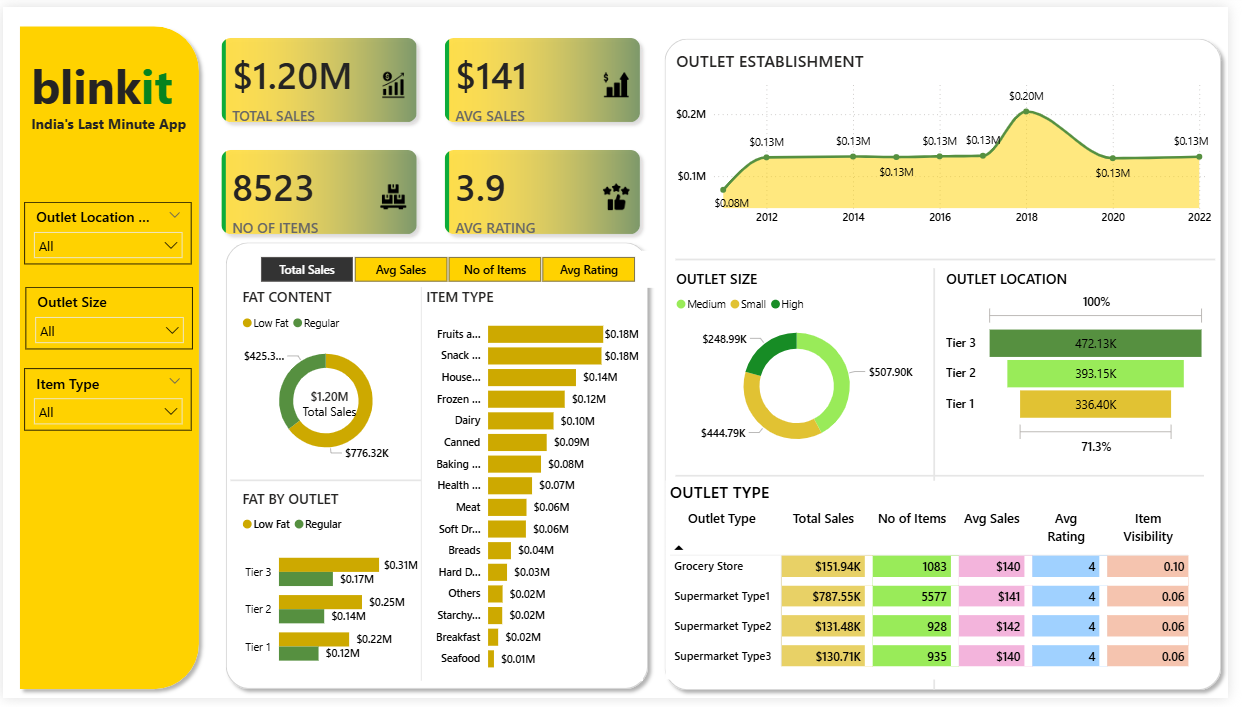

The dashboard page shown, as its layout file describes it:
{"tool":"powerbi","page":{"name":"Page 1","canvas":[1400,790],"ordinal":0},"visuals":[{"type":"shape","box":[10,12.9,222.9,775.7],"z":0},{"type":"textbox","box":[27.1,48.6,188.6,117.1],"z":1000},{"type":"textbox","box":[27.1,117.1,221.4,31.4],"z":2000},{"type":"cardVisual","fields":{"Data":["BlinkIT Grocery Data.Total Sales","BlinkIT Grocery Data.Avg Sales","BlinkIT Grocery Data.No of Items","BlinkIT Grocery Data.Avg Rating"]},"box":[233,18.5,513.6,259.5],"z":3000},{"type":"shape","box":[246.2,259.5,500.4,528.2],"z":4000},{"type":"donutChart","title":"FAT CONTENT","fields":{"Y":["BlinkIT Grocery Data.Total Sales"],"Category":["BlinkIT Grocery Data.Item Fat Content"]},"box":[268.7,320.3,201.2,210.5],"z":5000},{"type":"slicer","fields":{"Values":["Metrics.Metrics"]},"box":[268.7,278,477.9,42.4],"z":6000},{"type":"cardVisual","fields":{"Data":["BlinkIT Grocery Data.Total Sales"]},"box":[319,418.3,109.9,59.6],"z":7000},{"type":"clusteredBarChart","title":"FAT BY OUTLET","fields":{"Y":["BlinkIT Grocery Data.Total Sales"],"Category":["BlinkIT Grocery Data.Outlet Location Type"],"Series":["BlinkIT Grocery Data.Item Fat Content"]},"box":[268.7,549.3,210.5,221.1],"z":8000},{"type":"shape","box":[259.5,525.5,219.7,30.4],"z":9000},{"type":"shape","box":[460.7,320.3,37.1,450.1],"z":10000},{"type":"barChart","title":"ITEM TYPE","fields":{"Y":["BlinkIT Grocery Data.Total Sales"],"Category":["BlinkIT Grocery Data.Item Type"]},"box":[479.2,320.3,252.8,450.1],"z":11000},{"type":"shape","box":[746.6,27.8,653.9,762.5],"z":12000},{"type":"lineChart","title":"OUTLET ESTABLISHMENT","fields":{"Y":["BlinkIT Grocery Data.Total Sales"],"Category":["BlinkIT Grocery Data.Outlet Establishment Year"]},"box":[763.8,49,622.2,210.5],"z":13000},{"type":"shape","box":[768.6,278.6,617.1,20],"z":14000},{"type":"donutChart","title":"OUTLET SIZE","fields":{"Y":["BlinkIT Grocery Data.Total Sales"],"Category":["BlinkIT Grocery Data.Outlet Size"]},"box":[763.8,299.2,285.9,219.7],"z":15000},{"type":"shape","box":[1053.7,299.2,19.9,481.8],"z":16000},{"type":"funnel","title":"OUTLET LOCATION","fields":{"Y":["Sum(BlinkIT Grocery Data.Sales)"],"Category":["BlinkIT Grocery Data.Outlet Location Type"]},"box":[1073.5,299.2,307.1,219.7],"z":17000},{"type":"pivotTable","title":"OUTLET TYPE","fields":{"Rows":["BlinkIT Grocery Data.Outlet Type"],"Values":["BlinkIT Grocery Data.Total Sales","BlinkIT Grocery Data.No of Items","BlinkIT Grocery Data.Avg Sales","BlinkIT Grocery Data.Avg Rating","Avg(BlinkIT Grocery Data.Item Visibility)"]},"box":[757.1,541.4,615.7,227.1],"z":18000},{"type":"shape","box":[768.6,525.7,604.3,20],"z":19000},{"type":"slicer","fields":{"Values":["BlinkIT Grocery Data.Outlet Location Type"]},"box":[24.3,222.9,191.4,71.4],"z":20000},{"type":"slicer","fields":{"Values":["BlinkIT Grocery Data.Outlet Size"]},"box":[25.7,320,191.4,71.4],"z":20001},{"type":"slicer","fields":{"Values":["BlinkIT Grocery Data.Item Type"]},"box":[24.3,412.9,191.4,71.4],"z":20002}]}

Visuals, with their boxes in screenshot pixels (x1, y1, x2, y2), scaled from the page's 1400x790 canvas onto the 1242x707 screenshot:
shape: <region>9, 12, 207, 706</region>
textbox: <region>24, 43, 191, 148</region>
textbox: <region>24, 105, 220, 133</region>
cardVisual - BlinkIT Grocery Data.Total Sales x BlinkIT Grocery Data.Avg Sales: <region>207, 17, 662, 249</region>
shape: <region>218, 232, 662, 705</region>
"FAT CONTENT" donutChart: <region>238, 287, 417, 475</region>
slicer - Metrics.Metrics: <region>238, 249, 662, 287</region>
cardVisual - BlinkIT Grocery Data.Total Sales: <region>283, 374, 380, 428</region>
"FAT BY OUTLET" clusteredBarChart: <region>238, 492, 425, 689</region>
shape: <region>230, 470, 425, 497</region>
shape: <region>409, 287, 442, 689</region>
"ITEM TYPE" barChart: <region>425, 287, 649, 689</region>
shape: <region>662, 25, 1241, 706</region>
"OUTLET ESTABLISHMENT" lineChart: <region>678, 44, 1230, 232</region>
shape: <region>682, 249, 1229, 267</region>
"OUTLET SIZE" donutChart: <region>678, 268, 931, 464</region>
shape: <region>935, 268, 952, 699</region>
"OUTLET LOCATION" funnel: <region>952, 268, 1225, 464</region>
"OUTLET TYPE" pivotTable: <region>672, 485, 1218, 688</region>
shape: <region>682, 470, 1218, 488</region>
slicer - BlinkIT Grocery Data.Outlet Location Type: <region>22, 199, 191, 263</region>
slicer - BlinkIT Grocery Data.Outlet Size: <region>23, 286, 193, 350</region>
slicer - BlinkIT Grocery Data.Item Type: <region>22, 370, 191, 433</region>
